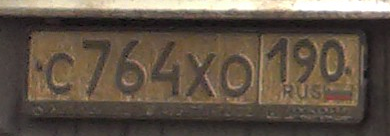character: (148, 35, 182, 100), (113, 37, 147, 99), (82, 33, 112, 100), (221, 51, 254, 101), (42, 47, 76, 94), (186, 49, 216, 101), (321, 35, 347, 87), (295, 34, 319, 87), (266, 38, 292, 85)
